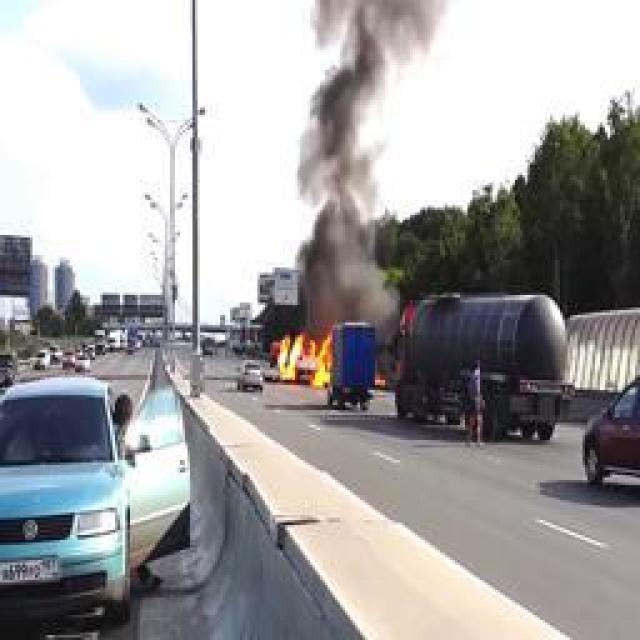Fire: (274, 332, 332, 388)
